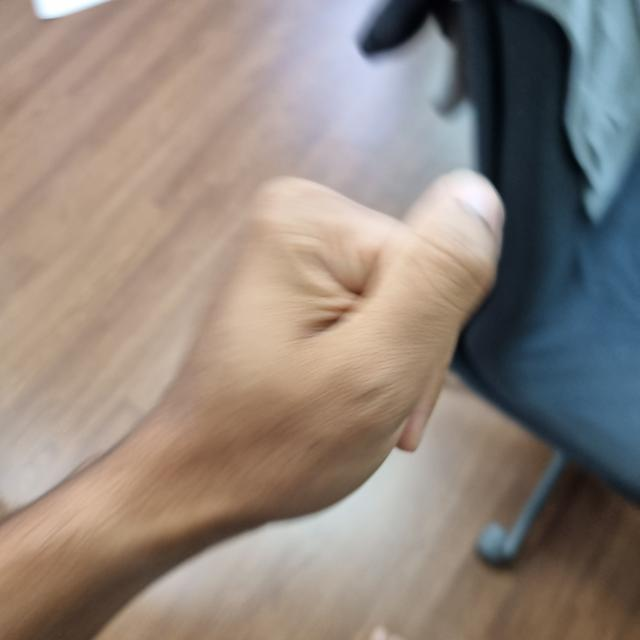Rock: (157, 175, 498, 519)
